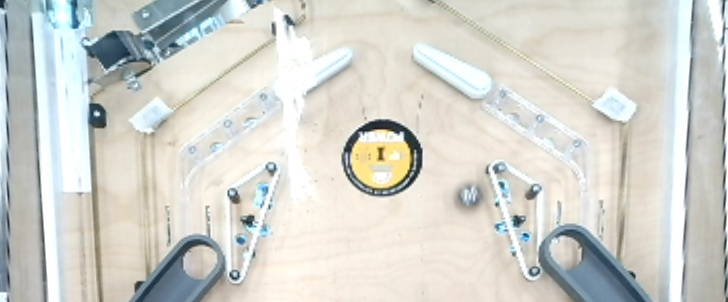ball: (451, 178, 488, 213)
flipper-left: (408, 38, 499, 108)
flipper-right: (268, 44, 358, 107)
